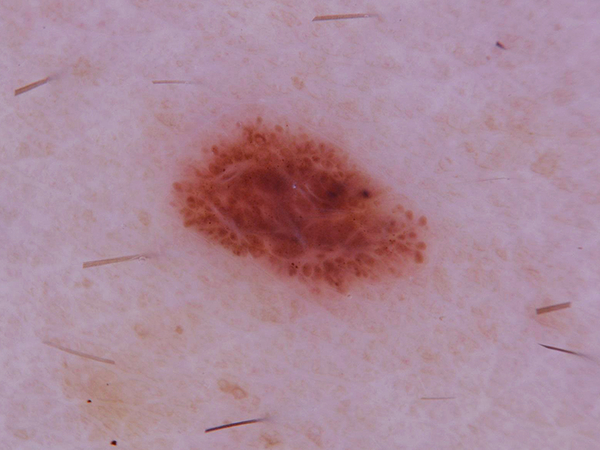Scab: (320, 183, 344, 204)
